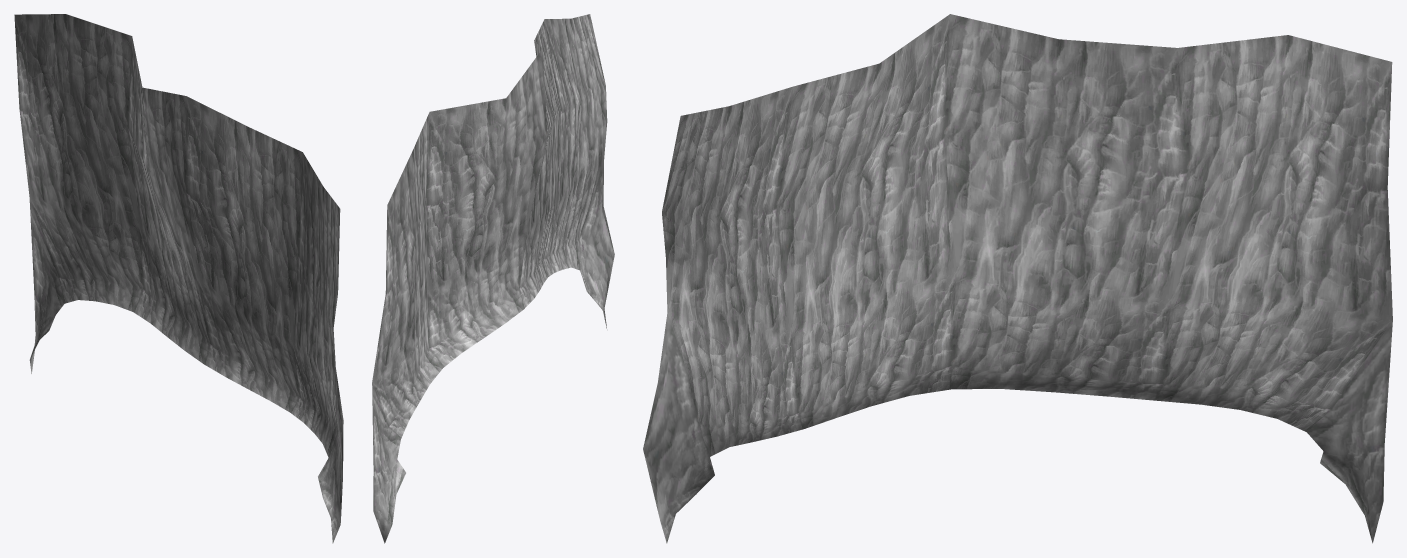
Rendered from SWORDLIGHT20_PS-AREA03_183.fbx.
The picture shows the model from 3 angles, left to right: view 1: azimuth 30°, elevation 25°; view 2: azimuth 150°, elevation 25°; view 3: azimuth 270°, elevation 25°; orthographic projection. The views are drawn at different scales.
Parts seen in each view (by area): view 1: SWORDLIGHT20_PS-AREA03_183; view 2: SWORDLIGHT20_PS-AREA03_183; view 3: SWORDLIGHT20_PS-AREA03_183.
Part boxes in pixels (<box>): SWORDLIGHT20_PS-AREA03_183: <box>14,14,343,543</box>; SWORDLIGHT20_PS-AREA03_183: <box>372,14,614,543</box>; SWORDLIGHT20_PS-AREA03_183: <box>643,14,1392,543</box>.
Size of the model in its own units: 35512 by 205256 by 264605.
2 materials, 2 textured.
